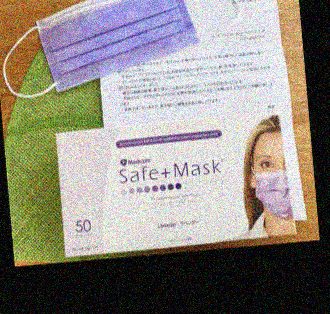with_mask: (254, 152, 290, 221)
